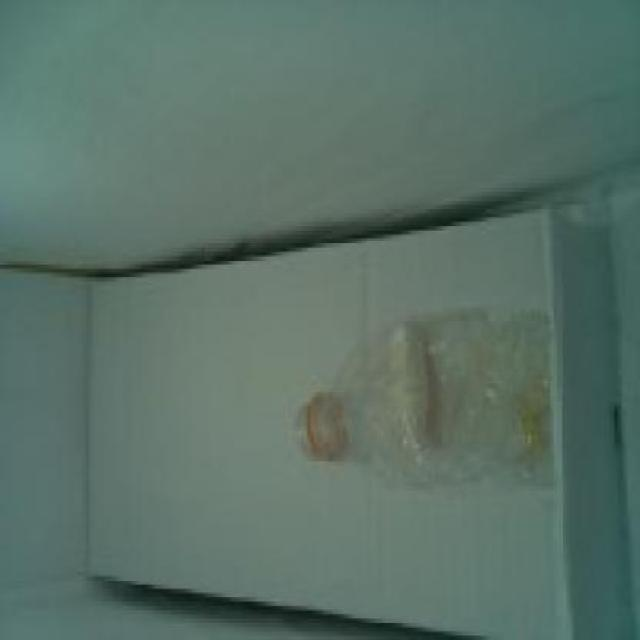Pet_Bottle: (289, 299, 557, 493)
